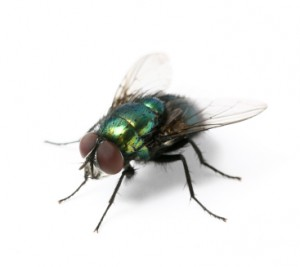green bottles flies: (35, 32, 279, 240)
